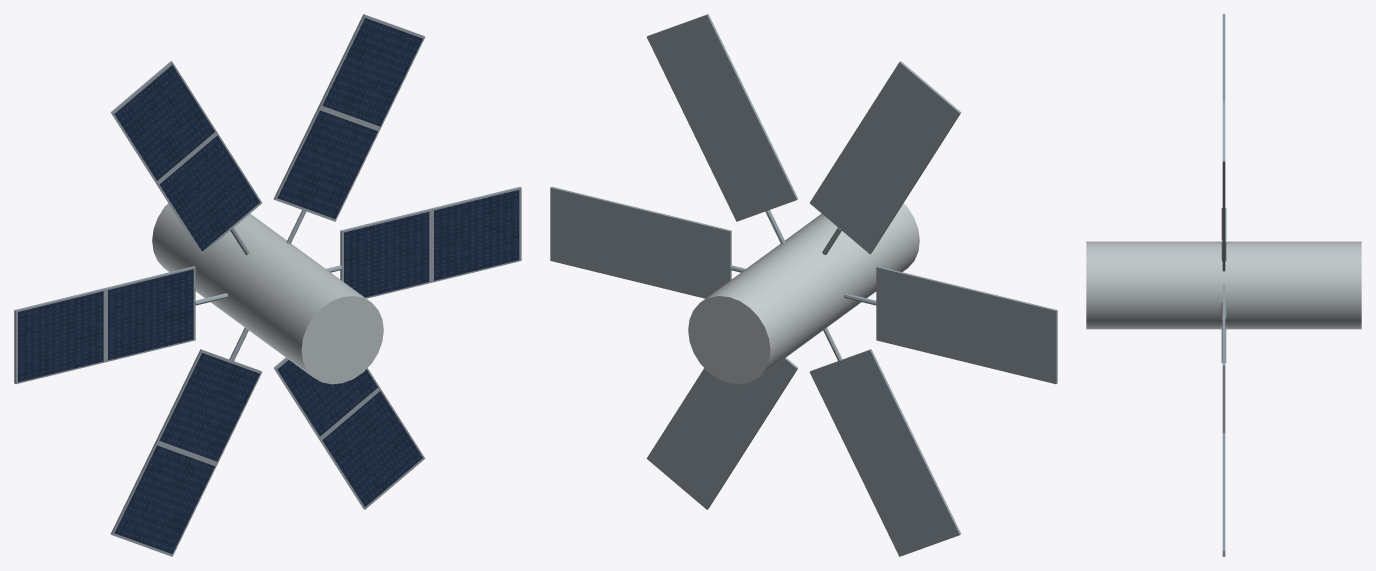
Rendered from ref-molniya-1t-21118.glb.
3 renders of one model, left to right at view 1: azimuth 30°, elevation 25°; view 2: azimuth 150°, elevation 25°; view 3: azimuth 270°, elevation 25°, orthographic. The views are drawn at different scales.
Parts seen in each view (by area): view 1: Photovoltaic laminates (×12), Spacecraft body, Array frame (×11); view 2: Array frame (×12), Spacecraft body; view 3: Spacecraft body, Array frame (×4).
Part boxes in pixels (x1,y1,x2,y2): Photovoltaic laminates (×12): (18, 18, 519, 553); Spacecraft body: (152, 203, 383, 384); Array frame (×11): (14, 14, 521, 556); Array frame (×12): (550, 14, 1057, 556); Spacecraft body: (688, 203, 919, 384); Spacecraft body: (1086, 241, 1361, 329); Array frame (×4): (1222, 14, 1225, 556).
Size of the model in its own units: 8.6 by 8.04 by 4.4.
Materials: 3 (1 with a texture image).
